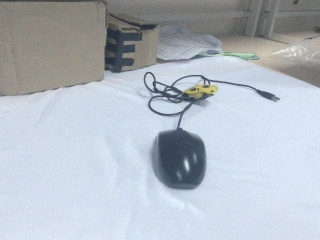box: (1, 1, 107, 96), (104, 11, 160, 73)
mouse: (150, 127, 208, 190)
toy_car: (182, 81, 219, 102)
